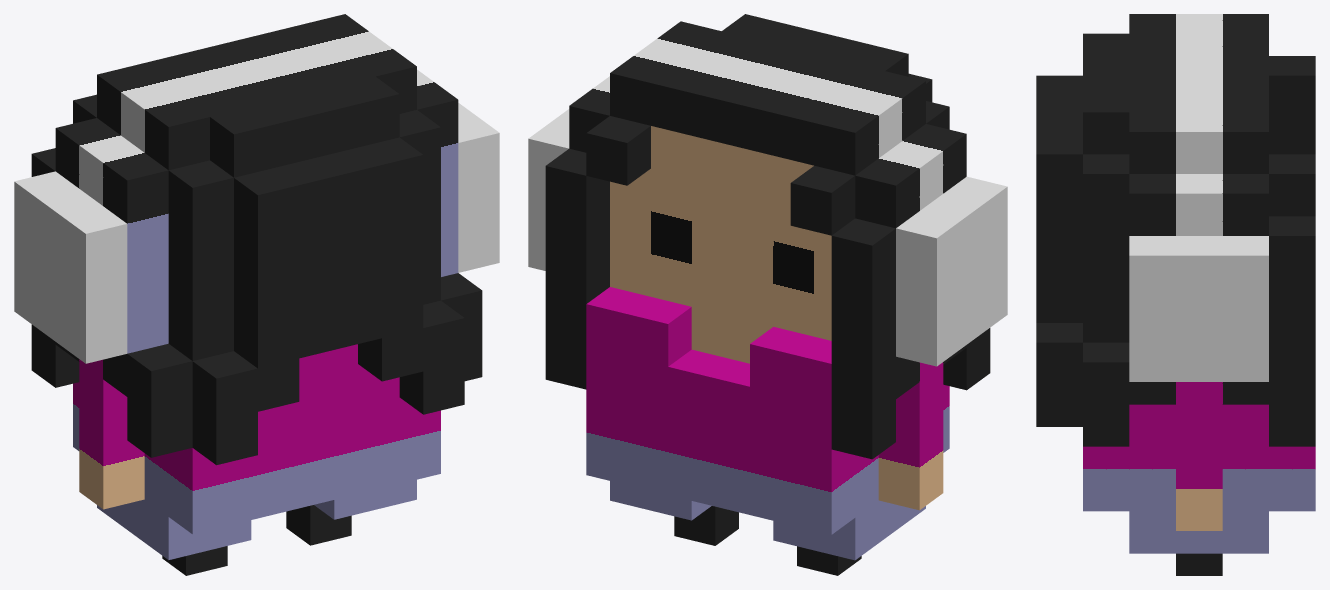
Rendered from chr_headphones.obj.
3 views of the same model, side by side, from view 1: azimuth 30°, elevation 25°; view 2: azimuth 150°, elevation 25°; view 3: azimuth 270°, elevation 25° (orthographic). The views are drawn at different scales.
Parts seen in each view (by area): view 1: chr_headphones_Plane-tex.001; view 2: chr_headphones_Plane-tex.001; view 3: chr_headphones_Plane-tex.001.
Boxes of the visible parts, <box> form: chr_headphones_Plane-tex.001: <box>14,14,499,575</box>; chr_headphones_Plane-tex.001: <box>528,14,1007,575</box>; chr_headphones_Plane-tex.001: <box>1036,14,1315,575</box>.
Bounding box in the file's own units: 1 × 1.1 × 0.6.
1 material, 1 textured.
